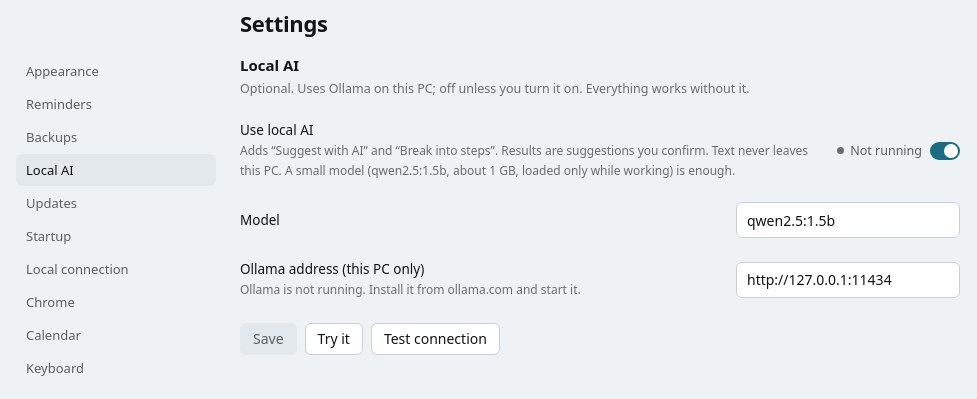
Test: Settings: Local AI Test connection › shows the plain error from the backend
Click the button "Test connection" at (435, 339), box 371,323 -> 500,355
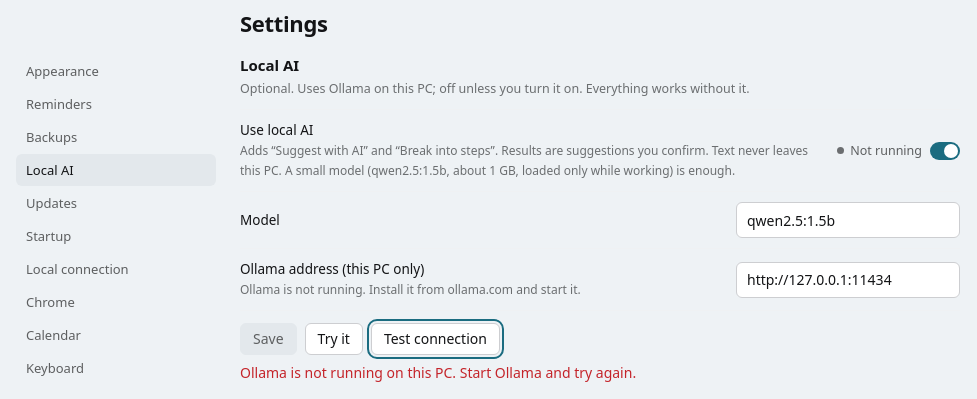
Result: the text "Ollama is not running on this PC. Start Ollama and try again." is shown at 240,363 -> 636,382
